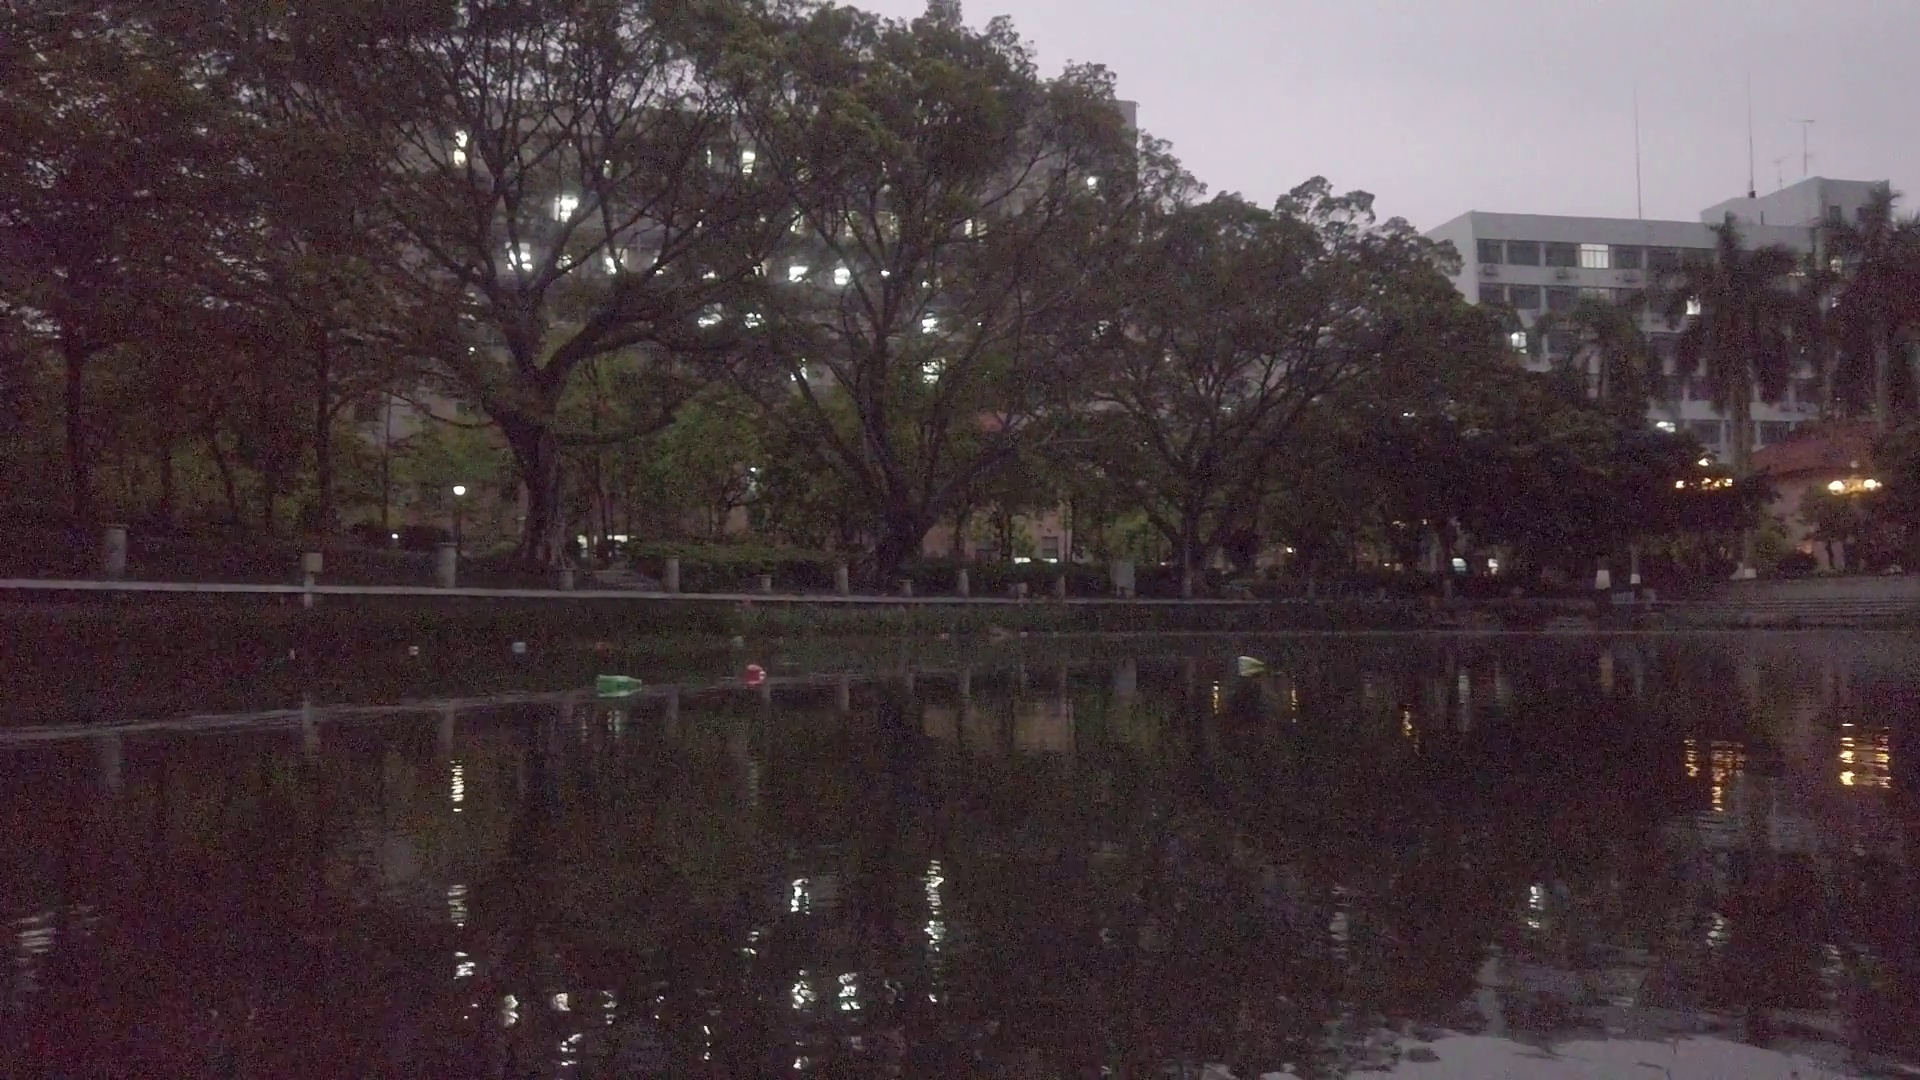bottle: (593, 673, 645, 692), (1236, 653, 1267, 676), (742, 661, 769, 682), (727, 630, 744, 644), (593, 644, 617, 653), (405, 644, 419, 657)
carton: (509, 638, 527, 655)
